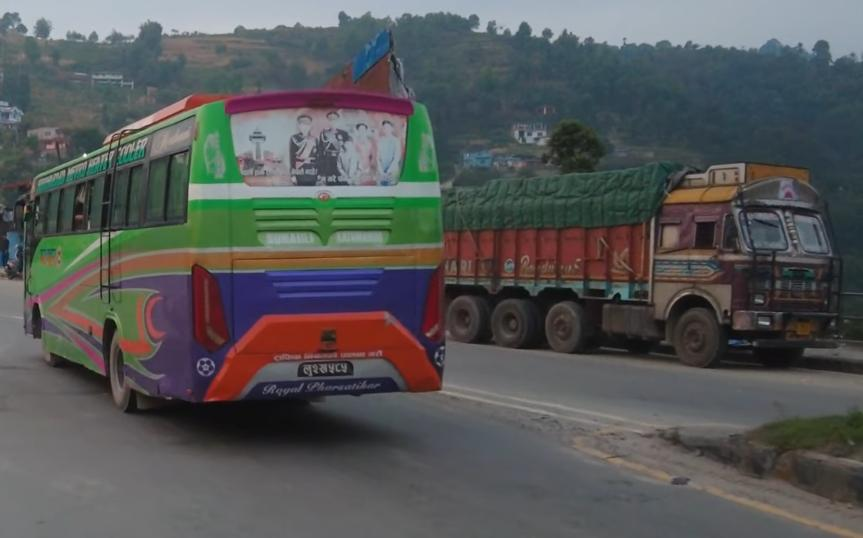bus: (17, 81, 450, 407)
truck: (432, 160, 843, 378)
